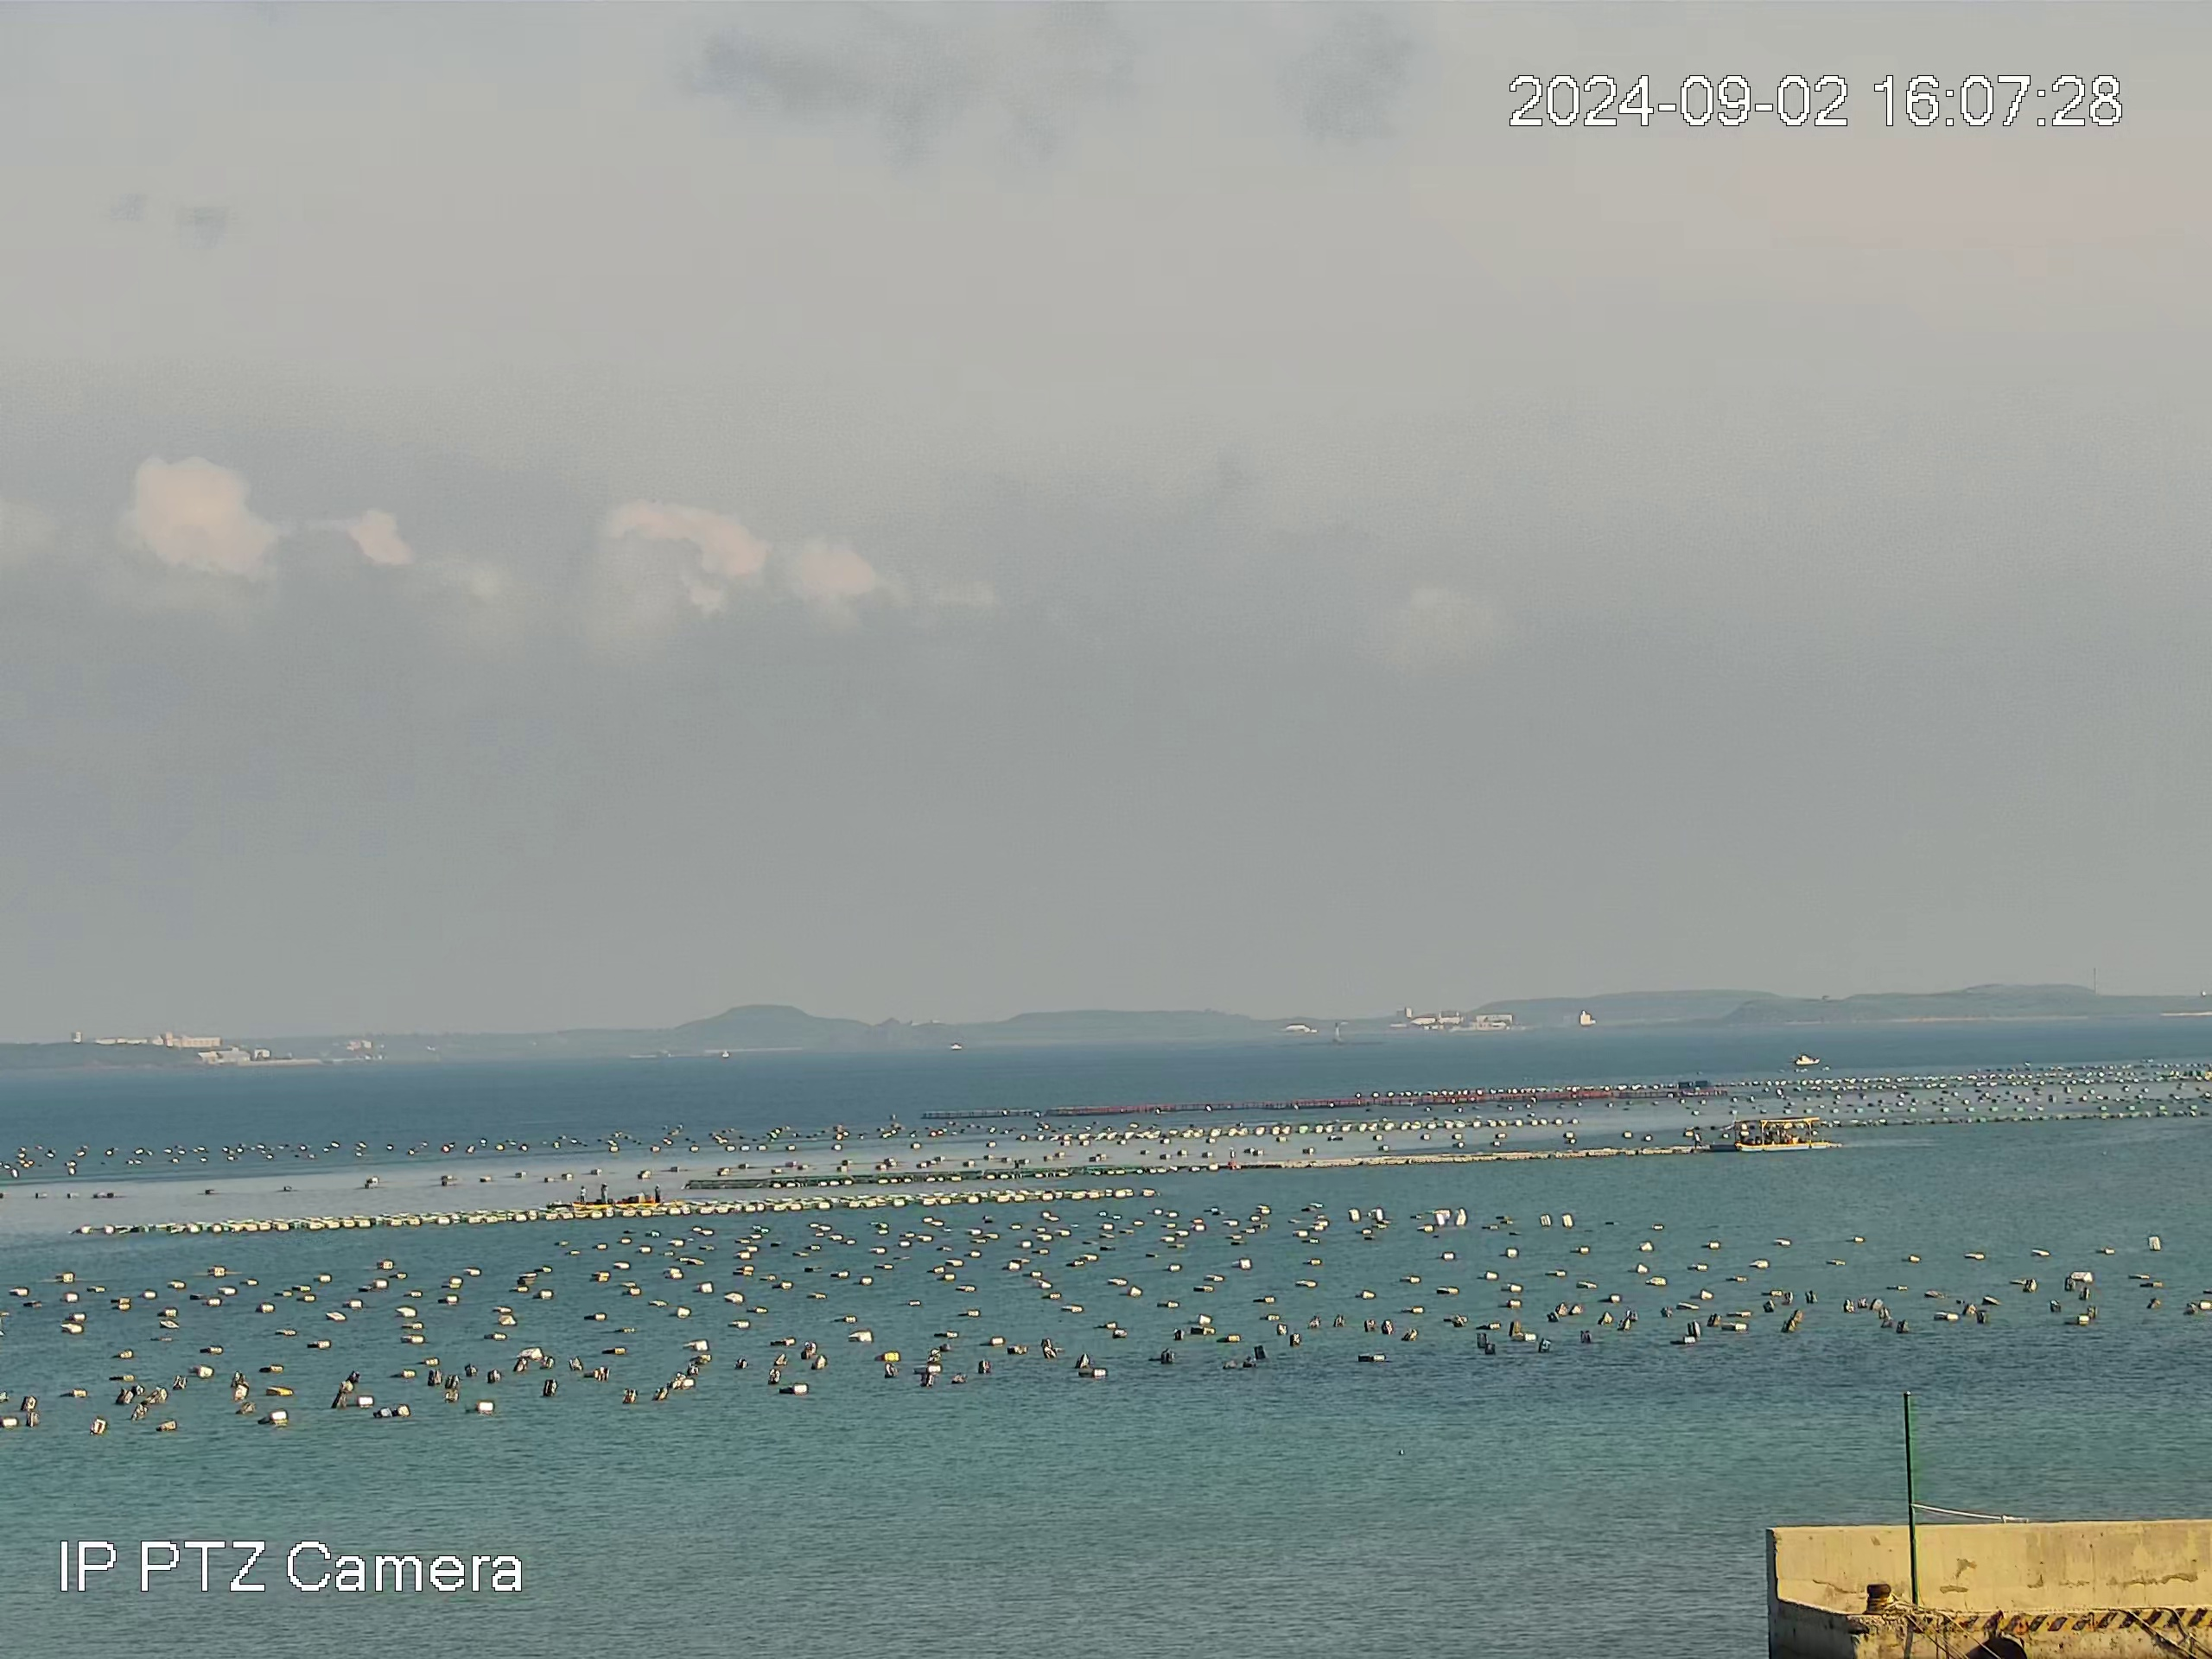boat: (1731, 1115, 1829, 1152), (568, 1182, 664, 1209), (1792, 1053, 1822, 1066)
